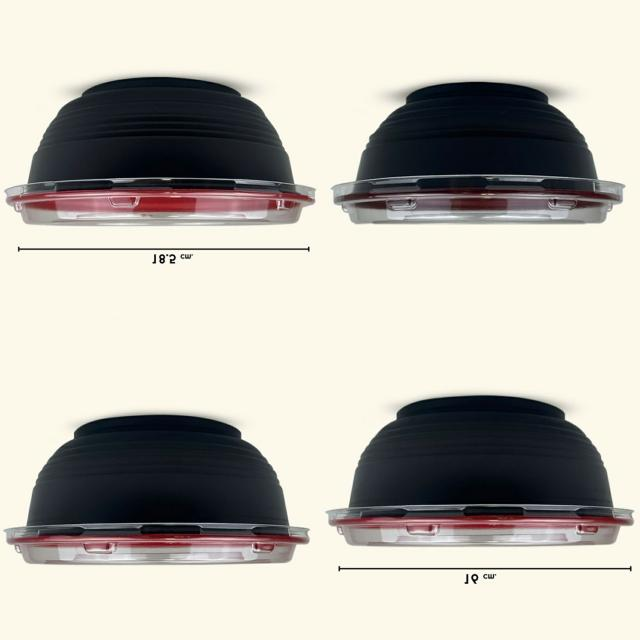Single-Use-Plastic: (328, 398, 634, 546), (6, 78, 315, 224), (6, 416, 309, 564), (332, 81, 624, 224)
